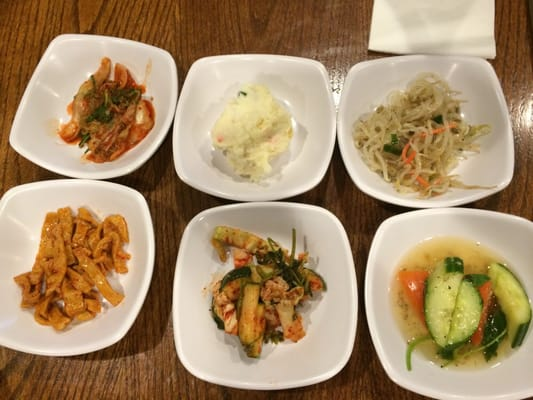sushi: (171, 201, 359, 391), (364, 208, 533, 400), (337, 53, 515, 210), (0, 180, 155, 356), (9, 33, 178, 181), (171, 54, 337, 202)
